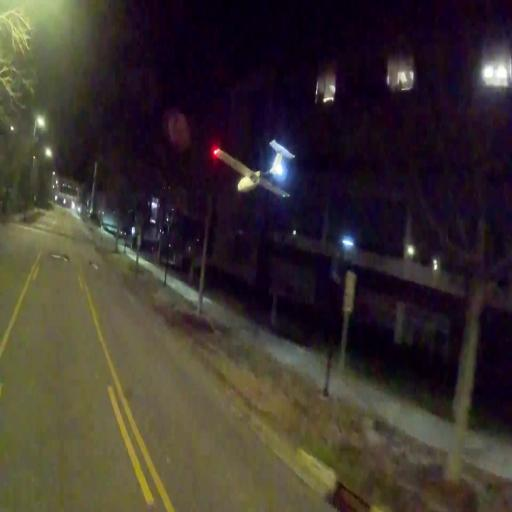uav: (209, 137, 292, 201)
